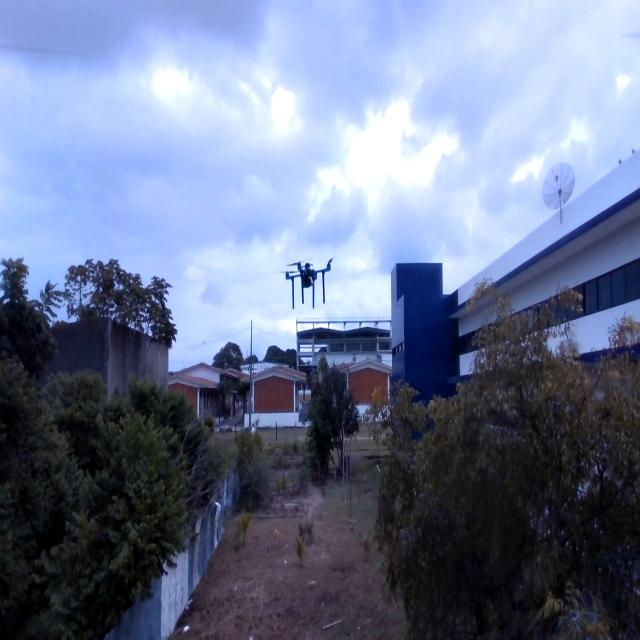-uav-: (274, 249, 336, 318)
